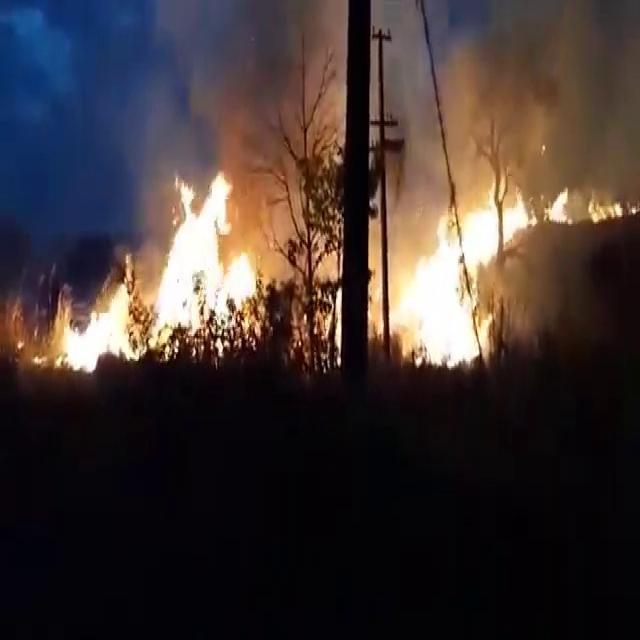Fire: (386, 193, 530, 364), (151, 178, 251, 345), (57, 292, 141, 368), (545, 188, 577, 226)
Smoke: (444, 26, 516, 160)
